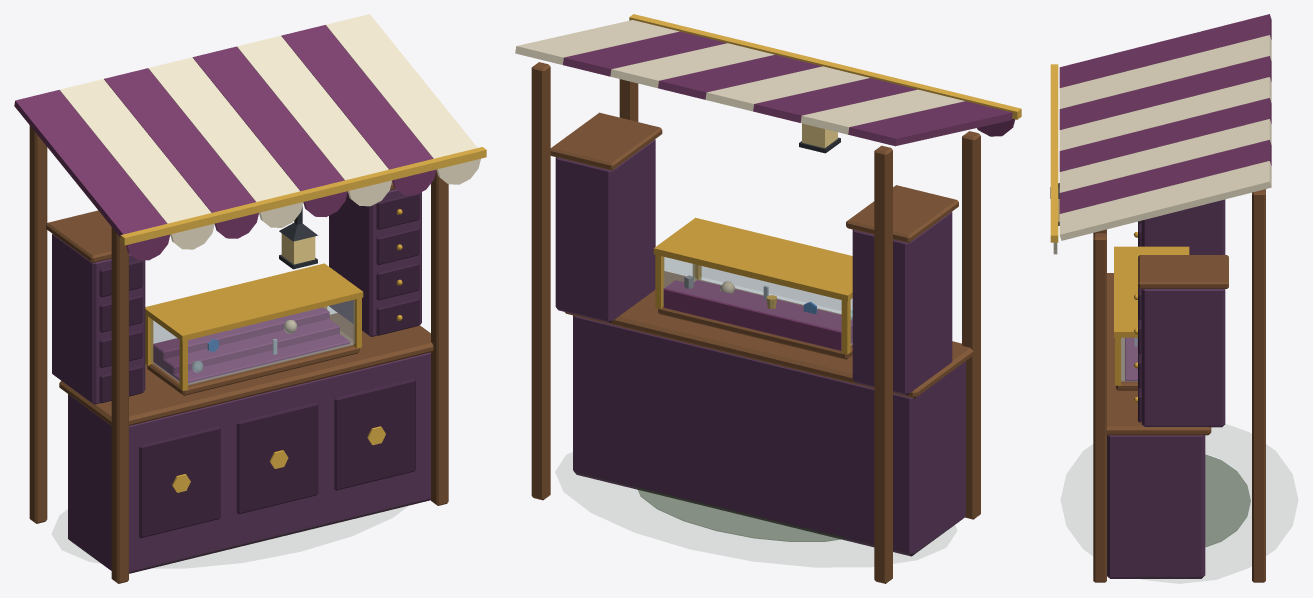
File: curio_cabinet.glb
3 views of the same model, side by side, from view 1: azimuth 30°, elevation 25°; view 2: azimuth 150°, elevation 25°; view 3: azimuth 270°, elevation 25° (orthographic). The views are drawn at different scales.
Visible parts, largest first — view 1: curio_cabinet; view 2: curio_cabinet; view 3: curio_cabinet.
Part boxes in pixels (box(x1,y1,x2,y2)): curio_cabinet: box(14, 14, 486, 583); curio_cabinet: box(515, 14, 1021, 583); curio_cabinet: box(1050, 14, 1271, 582).
Bounding box in the file's own units: 2.04 × 2.27 × 1.25.
